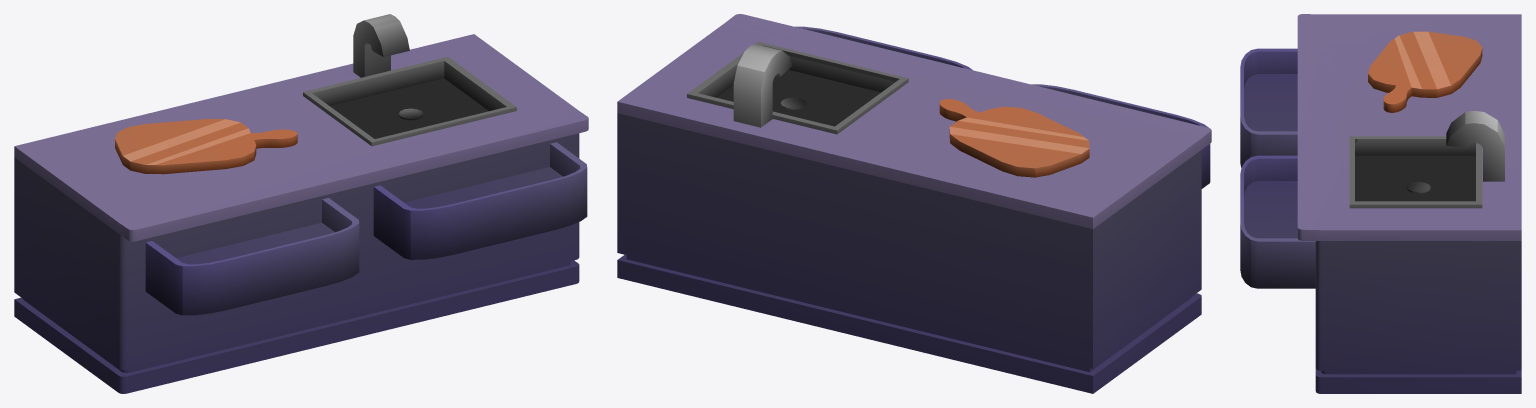
The model's file is Cupboard_Tap.fbx.
The picture shows the model from 3 angles, left to right: view 1: azimuth 30°, elevation 25°; view 2: azimuth 150°, elevation 25°; view 3: azimuth 270°, elevation 25°; orthographic projection. The views are drawn at different scales.
Parts seen in each view (by area): view 1: Cupboard.001; view 2: Cupboard.001; view 3: Cupboard.001.
Boxes of the visible parts, left/top/right/bottom form: Cupboard.001: left=14, top=14, right=588, bottom=393; Cupboard.001: left=617, top=14, right=1211, bottom=393; Cupboard.001: left=1240, top=14, right=1521, bottom=393.
Bounding box in the file's own units: 2.43 × 1.17 × 1.34.
